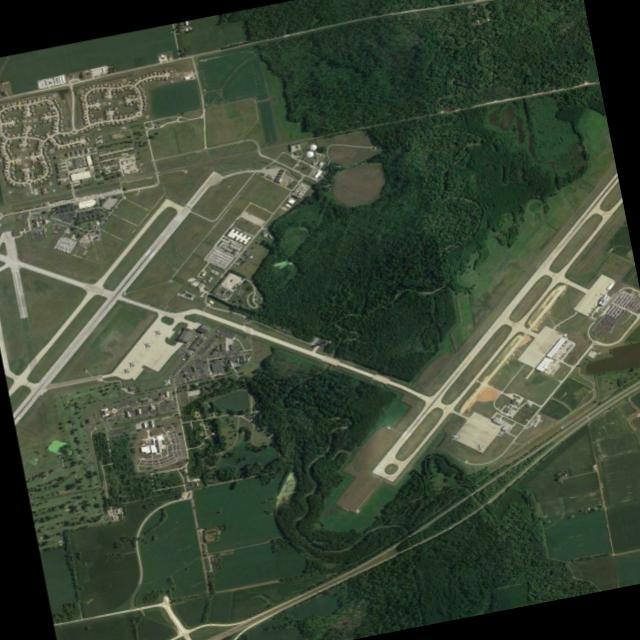storage-tank: (306, 149, 315, 159), (309, 143, 318, 151)
